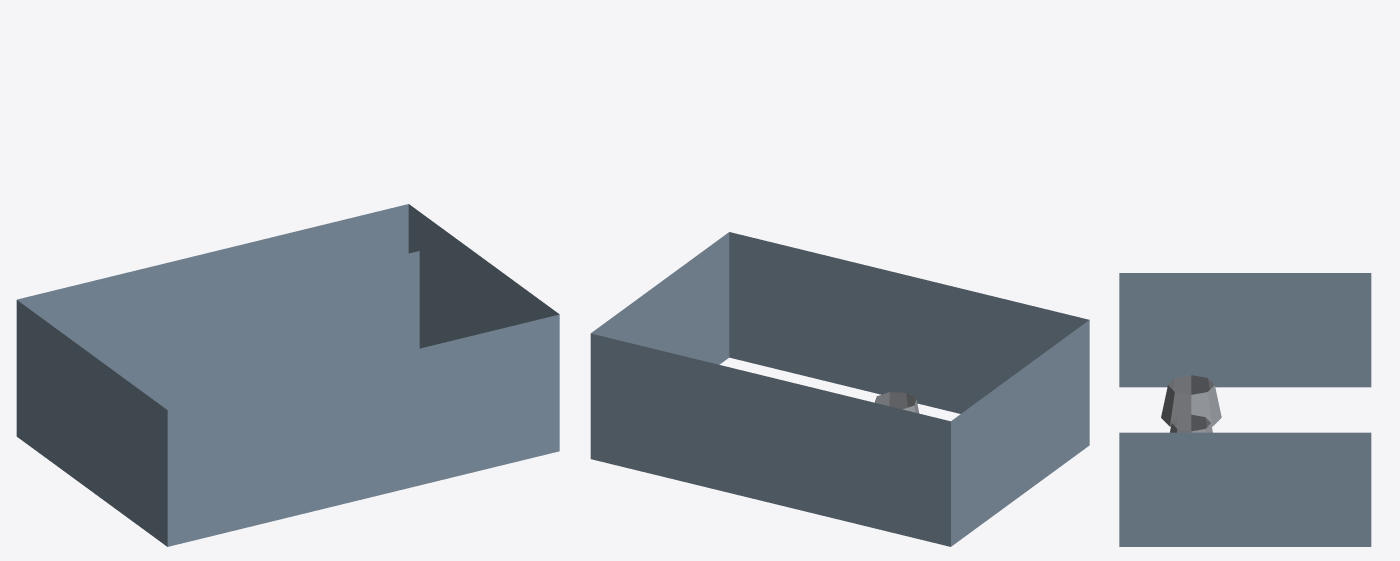
The model's file is Bld_I_med_L4_C.fbx.
3 renders of one model, left to right at view 1: azimuth 30°, elevation 25°; view 2: azimuth 150°, elevation 25°; view 3: azimuth 270°, elevation 25°, orthographic. The views are drawn at different scales.
Visible parts, largest first — view 1: Bld_I_med_L4_C_LOD0; view 2: Bld_I_med_L4_C_LOD0; view 3: Bld_I_med_L4_C_LOD0.
Part boxes in pixels (x1,y1,x2,y2): Bld_I_med_L4_C_LOD0: (16, 204, 559, 546); Bld_I_med_L4_C_LOD0: (590, 232, 1089, 546); Bld_I_med_L4_C_LOD0: (1119, 273, 1371, 546).
Size of what is drawn, in the model's own units: 2160 by 2425 by 1487.
1 material, 1 textured.
